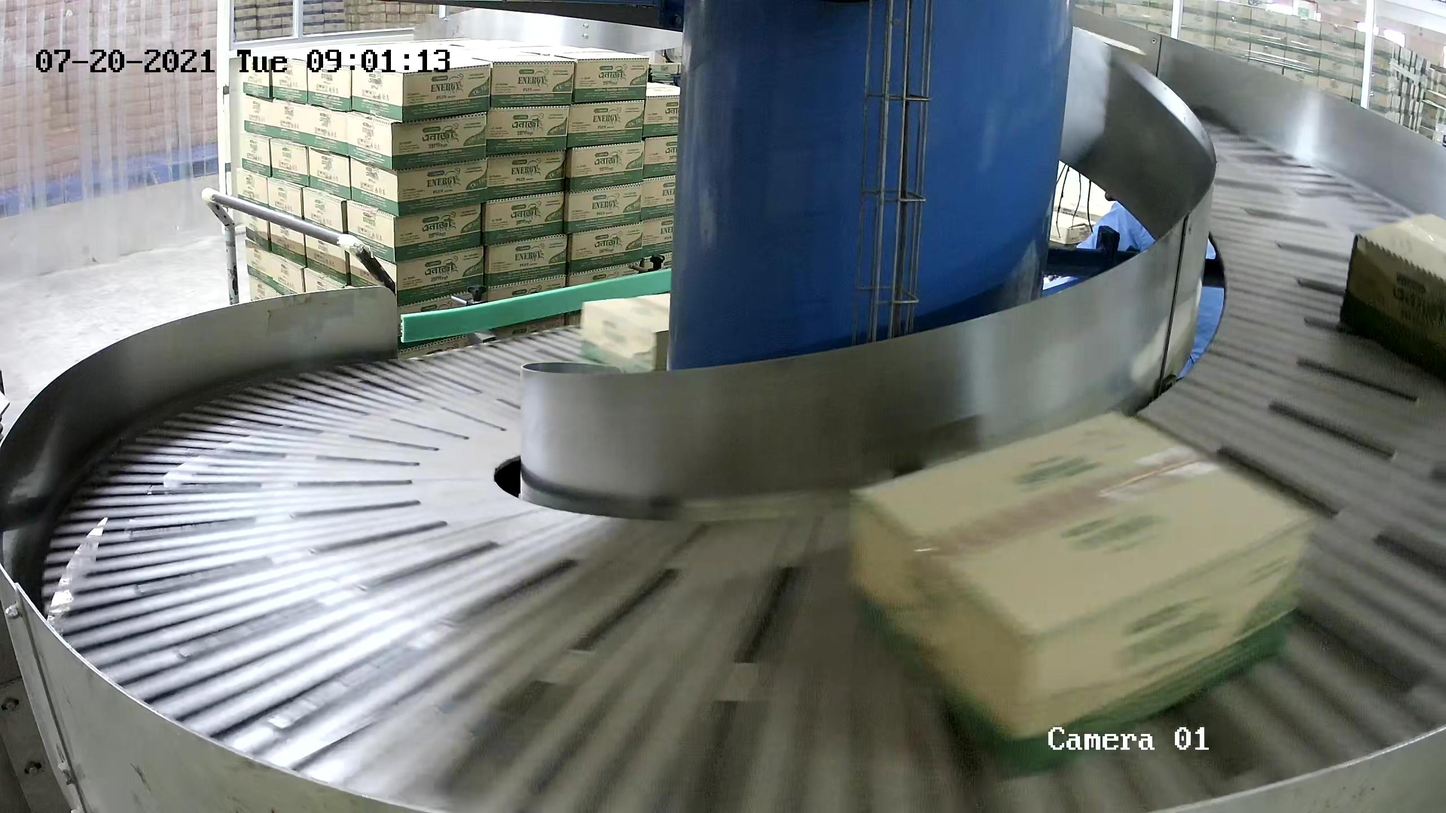Box: (844, 407, 1315, 777), (1339, 209, 1446, 403), (580, 292, 715, 382)
